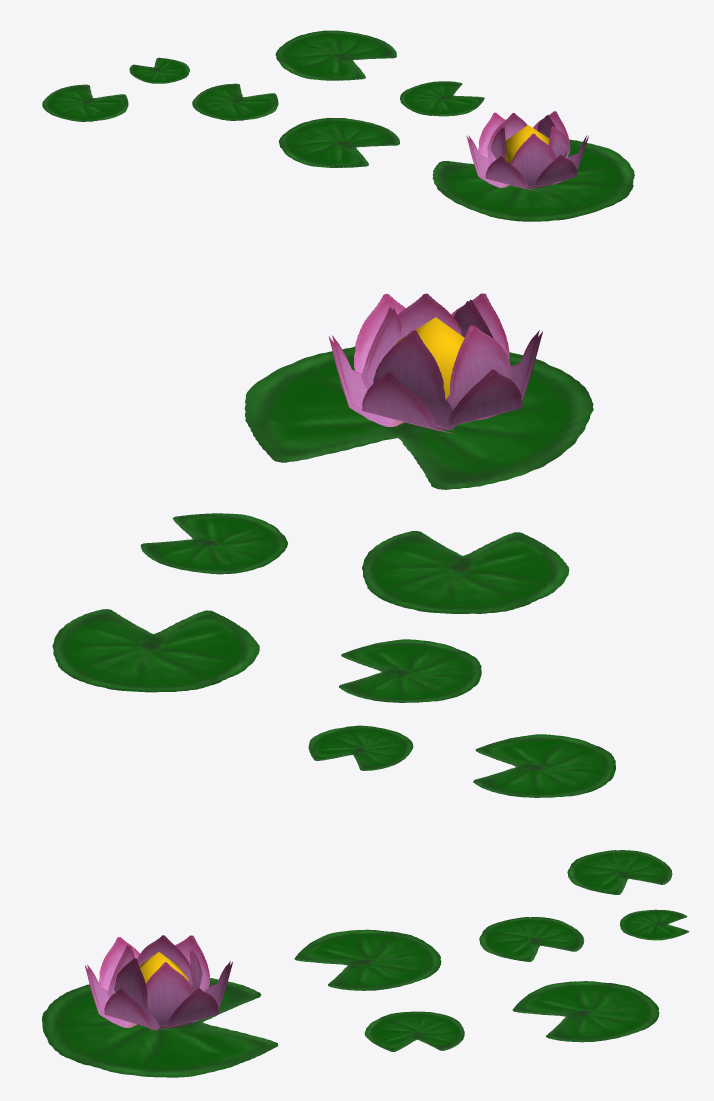
File: Lotus1.FBX
3 renders of one model, top to bottom at view 1: azimuth 30°, elevation 25°; view 2: azimuth 150°, elevation 25°; view 3: azimuth 270°, elevation 25°, orthographic. The views are drawn at different scales.
Parts seen in each view (by area): view 1: Lotus1; view 2: Lotus1; view 3: Lotus1.
Boxes of the visible parts, x1,y1,x2,y2 form: Lotus1: [42, 30, 634, 221]; Lotus1: [52, 293, 615, 797]; Lotus1: [42, 850, 689, 1077].
Size of the model in its own units: 4.64 by 0.6788 by 5.42.
Materials: 1 (1 with a texture image).
